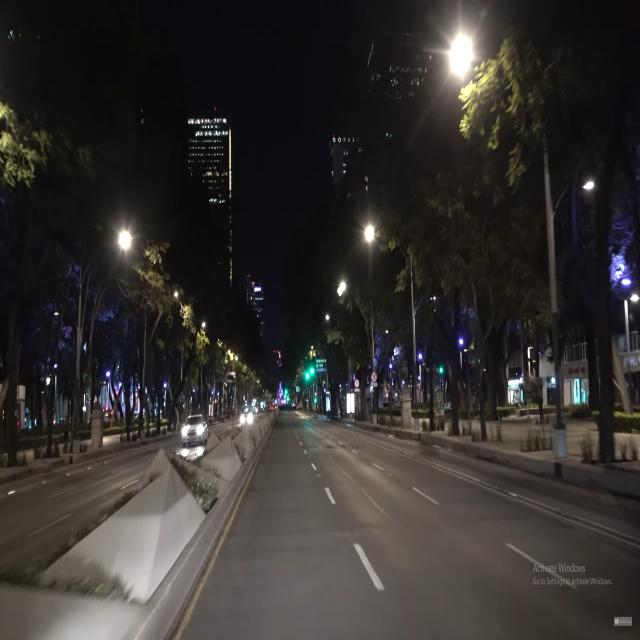headlights: (176, 420, 207, 440), (236, 412, 258, 428)
